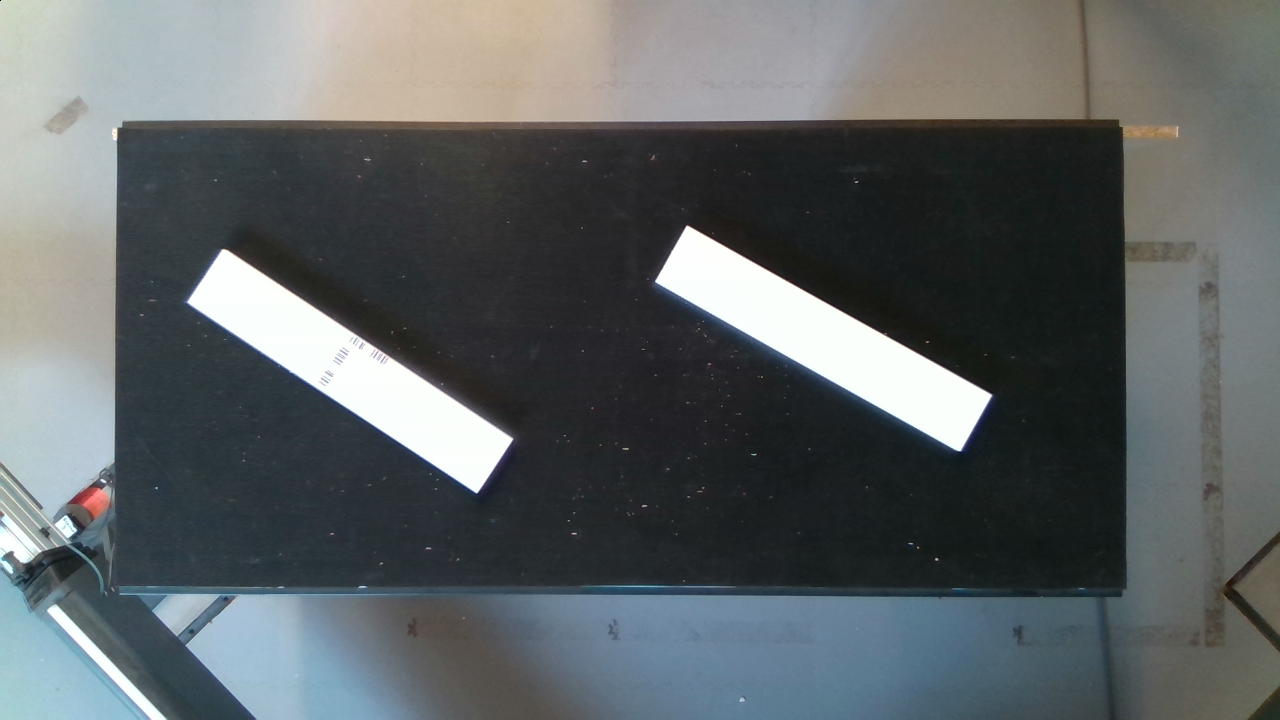barcode: (306, 326, 415, 416)
part1: (181, 242, 531, 505), (644, 211, 1016, 456)
